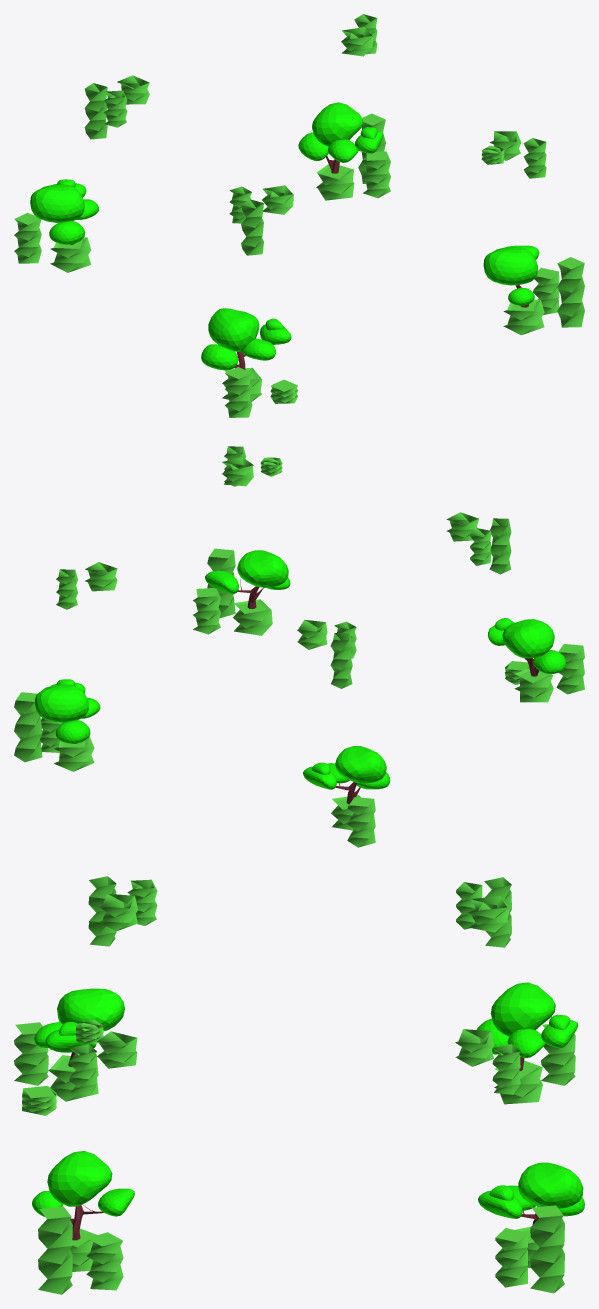
Rendered from trees.glb.
3 renders of one model, top to bottom at view 1: azimuth 30°, elevation 25°; view 2: azimuth 150°, elevation 25°; view 3: azimuth 270°, elevation 25°, orthographic. The views are drawn at different scales.
Visible parts, largest first — view 1: Planters, Planters.001, Icosphere.009, Icosphere.011, Icosphere.016, Icosphere.002, Icosphere.019, Icosphere.014, Icosphere.008, Icosphere.018, Icosphere.007; view 2: Planters, Planters.001, Icosphere.002, Icosphere.016, Icosphere.009, Icosphere.011, Icosphere.008, Icosphere.019, Icosphere.005; view 3: Planters, Planters.001, Icosphere.009, Icosphere.011, Icosphere.002, Icosphere.016, Icosphere.005, Icosphere.004, Icosphere.013, Icosphere.012, Icosphere.017.
Boxes of the visible parts, x1,y1,x2,y2 form: Planters: (14,113,584,417); Planters.001: (84,14,546,255); Icosphere.009: (483,247,537,285); Icosphere.011: (30,184,84,222); Icosphere.016: (208,308,259,351); Icosphere.002: (312,102,362,146); Icosphere.019: (201,344,238,370); Icosphere.014: (49,221,85,244); Icosphere.008: (298,132,328,161); Icosphere.018: (241,338,275,360); Icosphere.007: (328,139,358,162); Planters: (14,548,584,847); Planters.001: (56,446,511,688); Icosphere.002: (35,684,88,722); Icosphere.016: (502,619,554,658); Icosphere.009: (237,550,288,587); Icosphere.011: (335,746,386,783); Icosphere.008: (55,720,90,743); Icosphere.019: (533,650,566,673); Icosphere.005: (205,570,238,593); Planters: (14,1022,575,1294); Planters.001: (69,876,520,1094); Icosphere.009: (47,1151,112,1206); Icosphere.011: (490,982,555,1036); Icosphere.002: (518,1162,583,1208); Icosphere.016: (57,988,124,1031); Icosphere.005: (98,1188,134,1216); Icosphere.004: (478,1190,522,1218); Icosphere.013: (507,1029,545,1058); Icosphere.012: (541,1020,578,1048); Icosphere.017: (45,1029,96,1052).
Size of what is drawn, in the model's own units: 27.72 by 12.83 by 29.78.
